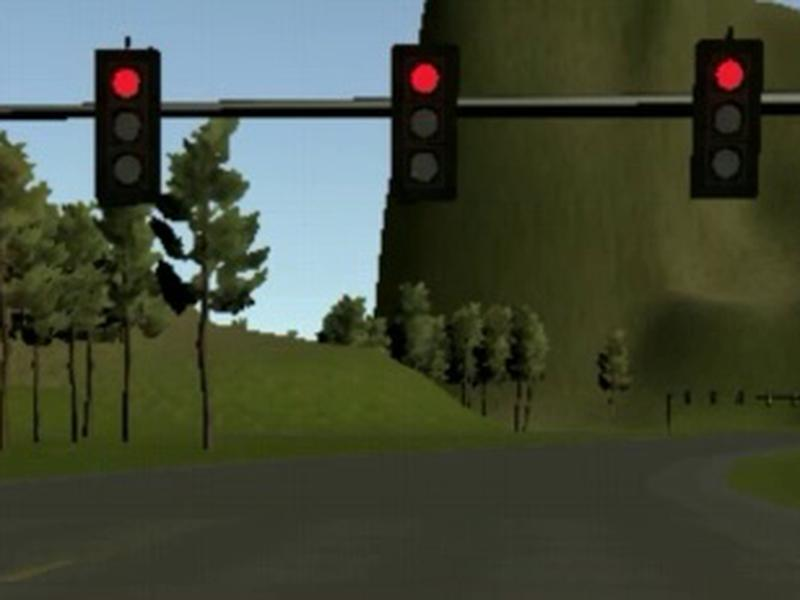Red: (691, 39, 763, 198), (392, 46, 460, 202), (96, 50, 162, 203)
